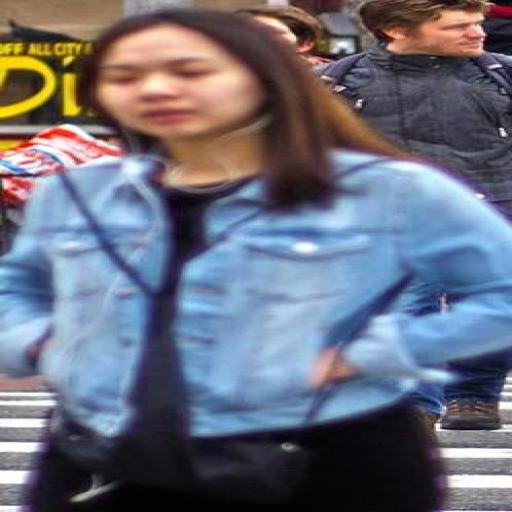person: (0, 9, 511, 511), (336, 0, 511, 208), (235, 4, 328, 65), (484, 0, 511, 55)
